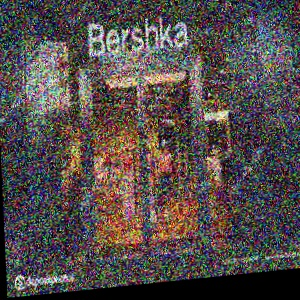bershka: (147, 0, 239, 42)
